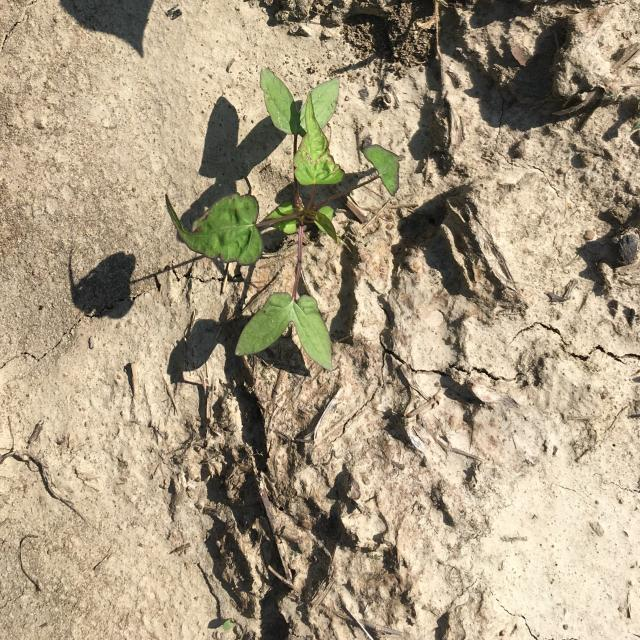MorningGlory: (165, 66, 404, 372)
